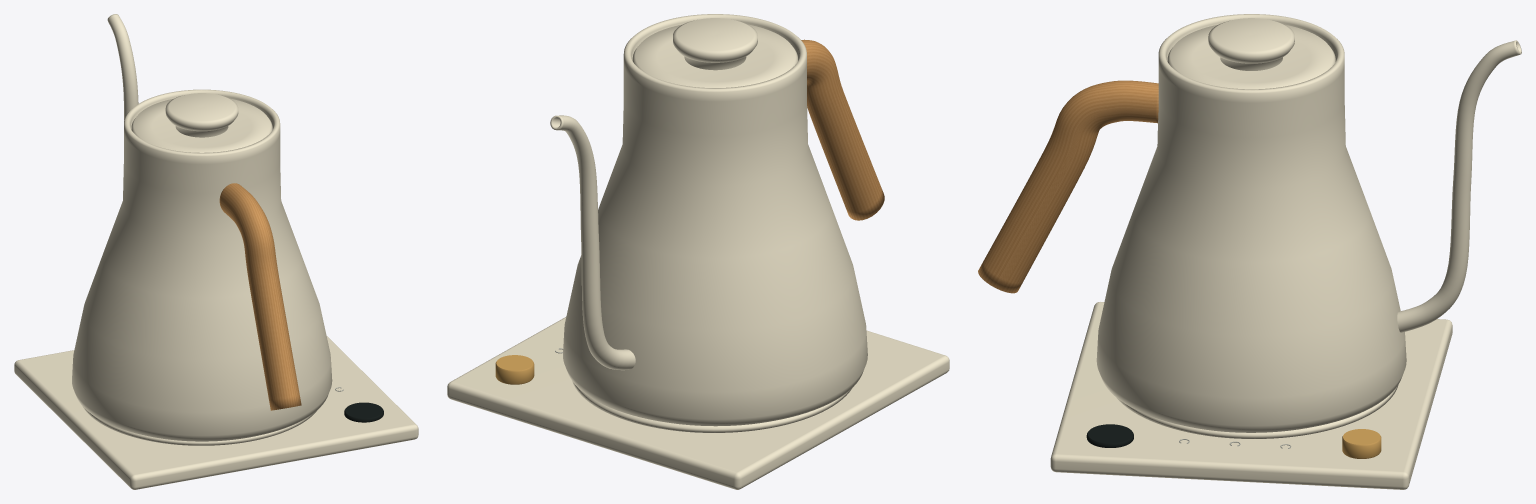
Rendered from objects__kettle_0.glb.
3 renders of one model, left to right at view 1: azimuth 30°, elevation 25°; view 2: azimuth 150°, elevation 25°; view 3: azimuth 270°, elevation 25°, orthographic. The views are drawn at different scales.
Visible parts, largest first — view 1: kettle_0__kettle, kettle_0__base, kettle_0__lid; view 2: kettle_0__kettle, kettle_0__base, kettle_0__lid; view 3: kettle_0__kettle, kettle_0__base, kettle_0__lid.
Part boxes in pixels (bbox=[...]): kettle_0__kettle: bbox=[72, 14, 332, 441]; kettle_0__base: bbox=[14, 336, 418, 489]; kettle_0__lid: bbox=[131, 93, 272, 152]; kettle_0__kettle: bbox=[550, 14, 884, 426]; kettle_0__base: bbox=[447, 317, 949, 489]; kettle_0__lid: bbox=[632, 18, 797, 87]; kettle_0__kettle: bbox=[978, 14, 1521, 432]; kettle_0__base: bbox=[1050, 302, 1452, 489]; kettle_0__lid: bbox=[1167, 18, 1335, 89].
Bounding box in the file's own units: 0.21 × 0.2073 × 0.277.
Materials: 7 (1 with a texture image).
